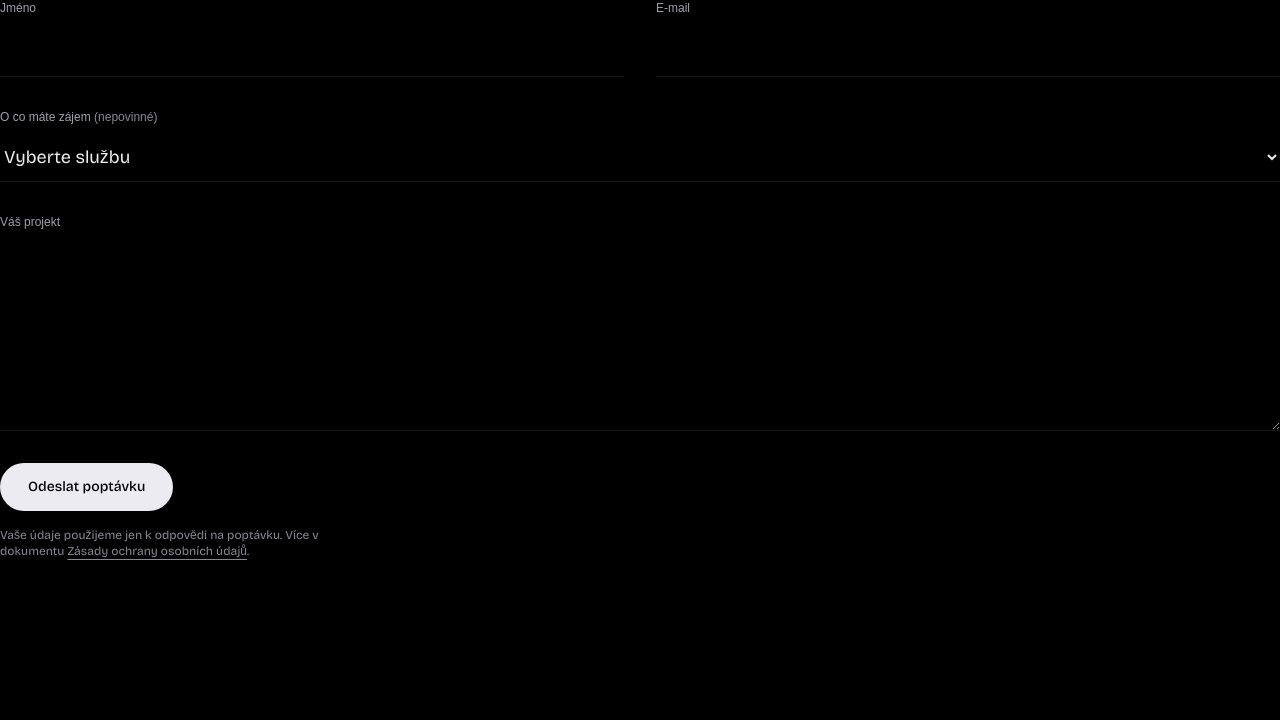
InquiryForm › offers the e-mail address and a copy button when sending fails
This screenshot has width=1280, height=720.
Type "Jana Nováková" into the field labelled "Jméno". click: [312, 50]
box: [0,24,624,77]
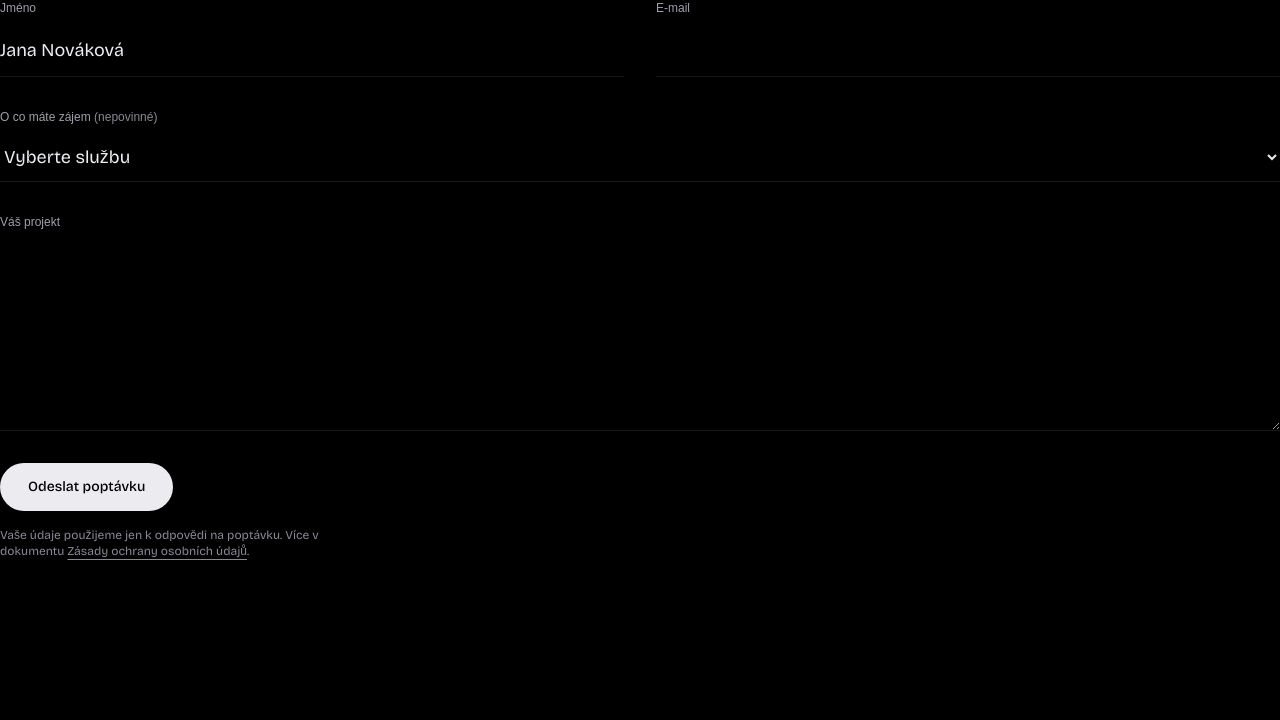
Type "jana@example.cz" into the field labelled "E-mail". click: [968, 50]
box: [656,24,1279,77]
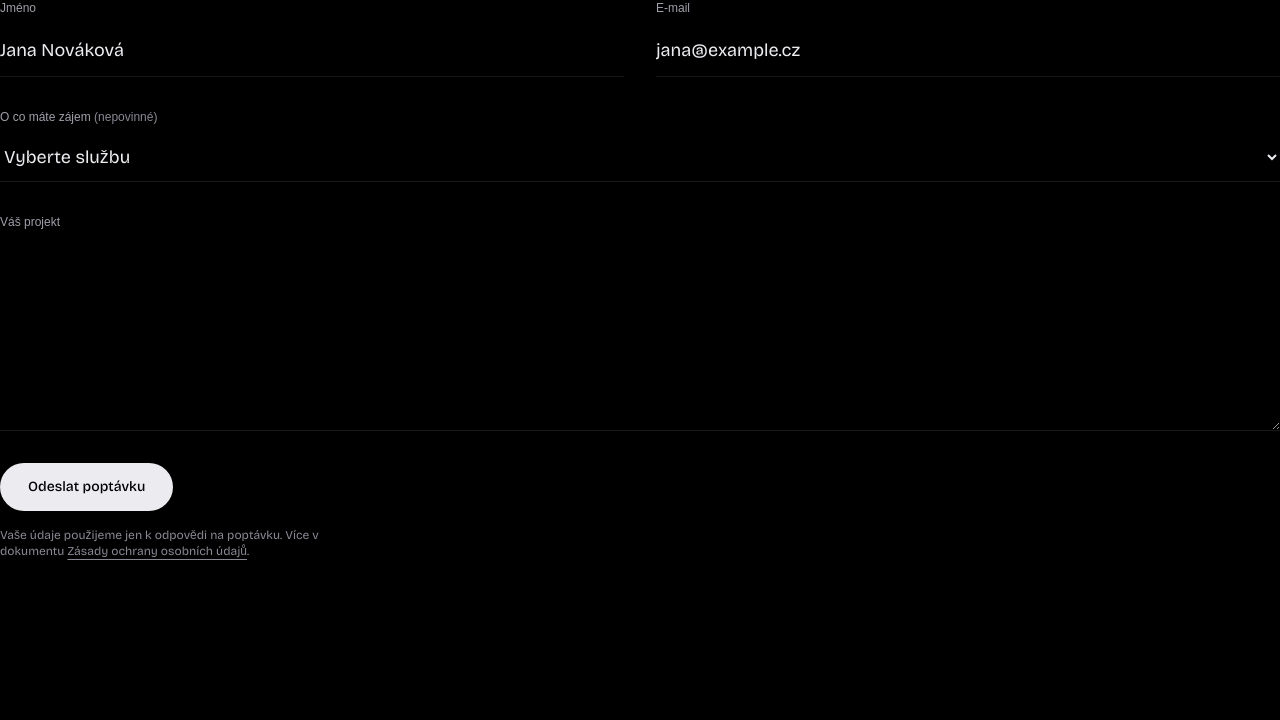
Type "Potřebujeme nový web pro kavárnu." into the text box labelled "Váš projekt". click: [640, 334]
box: [0,238,1279,431]
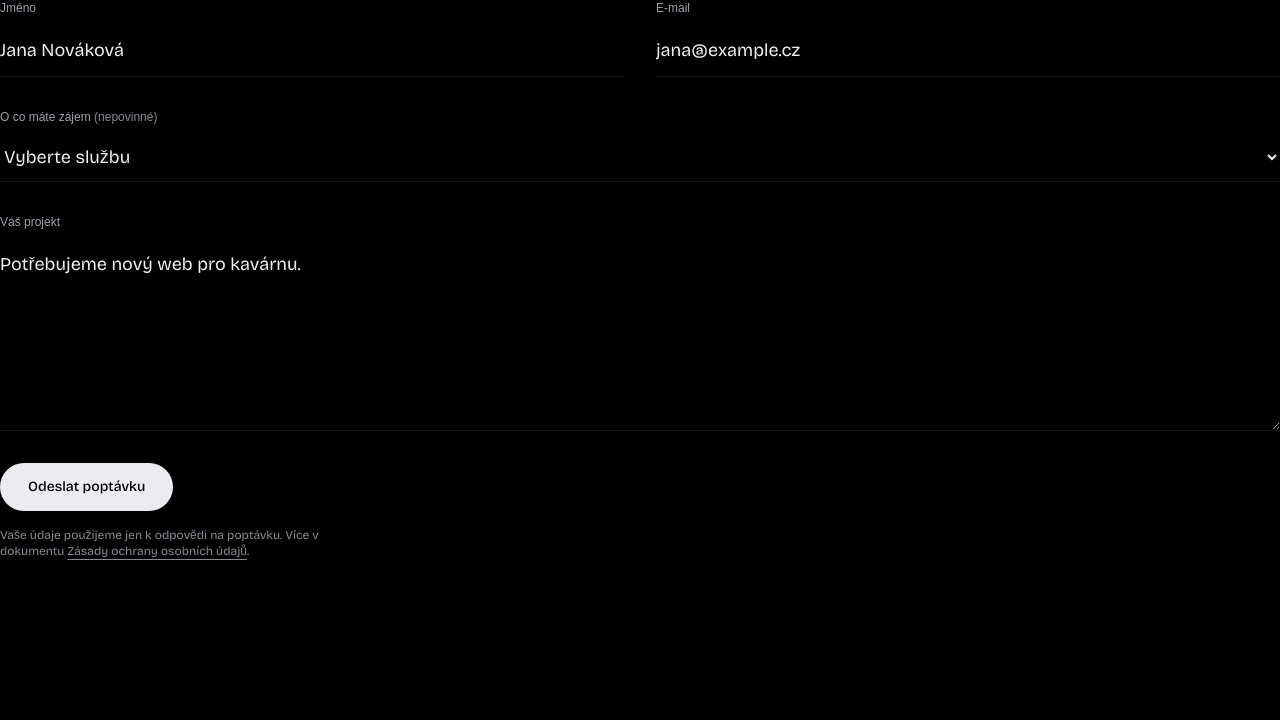
Submit the form named "Poptávkový formulář"
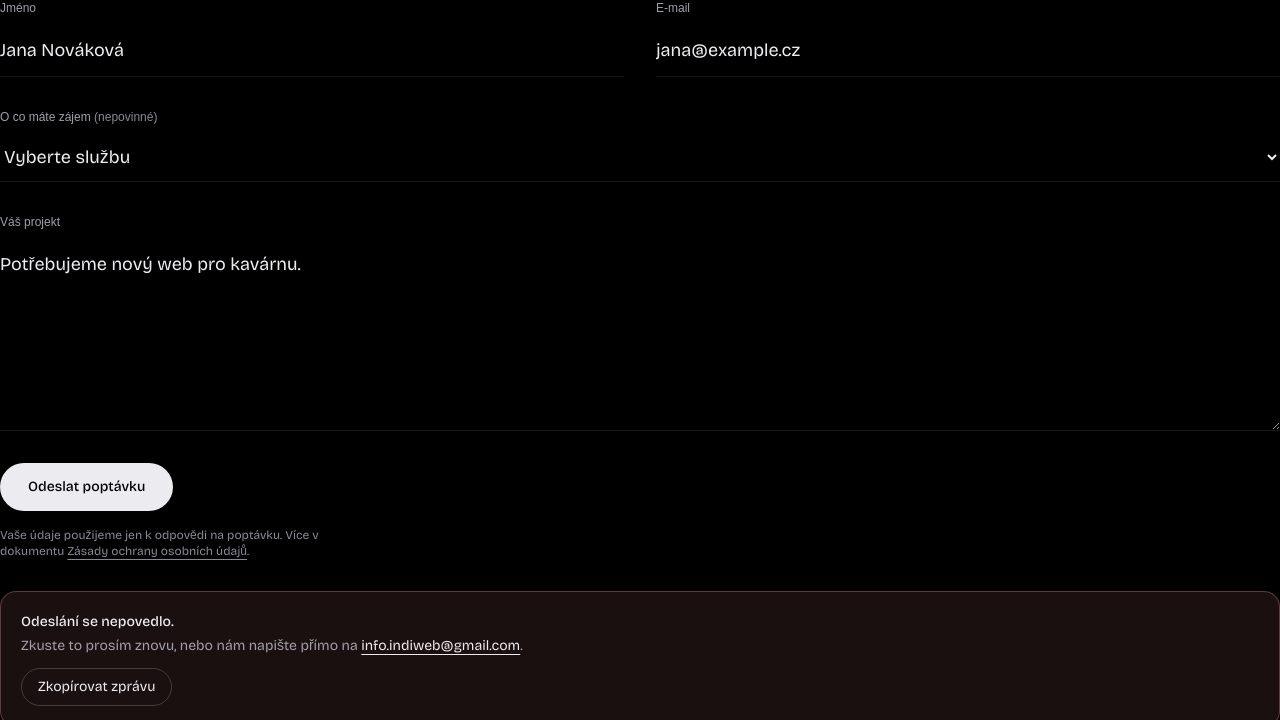
Expected: the message shows "Odeslání se nepovedlo.", [21,613,174,630]
Click the button "Zkopírovat zprávu". click: [97, 687]
box: [21,668,172,706]
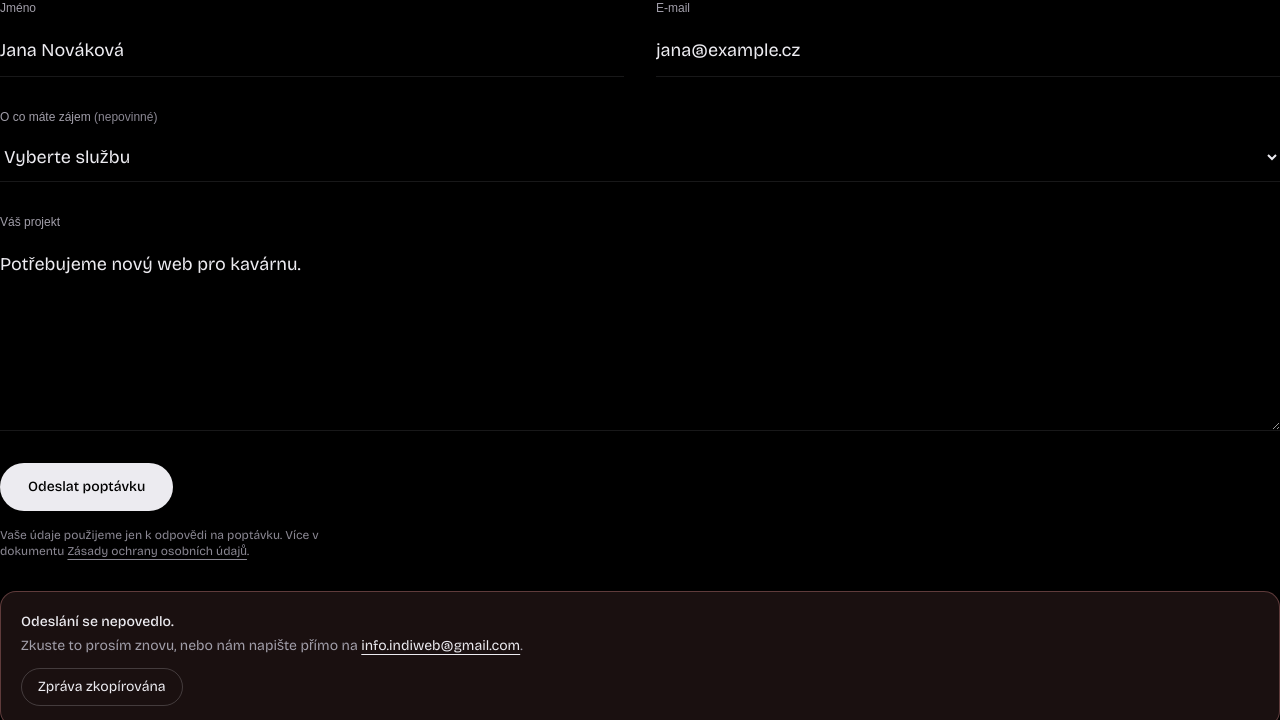
Expected: the button "Zpráva zkopírována" is shown, [21,668,183,706]
